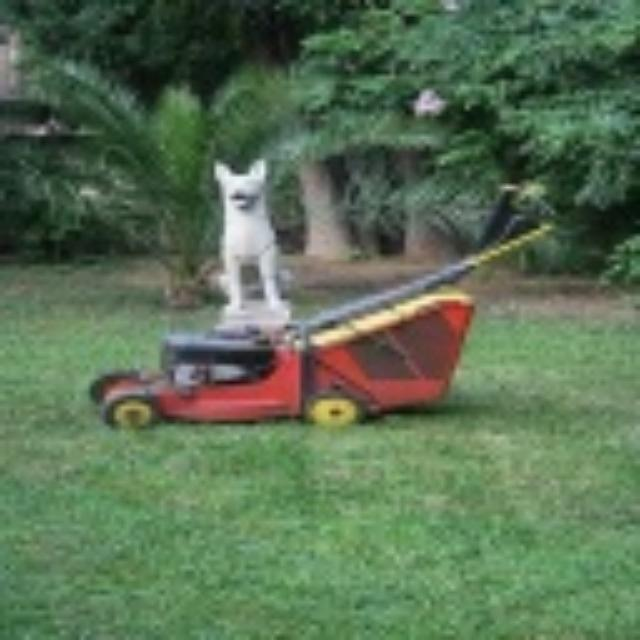Rotary-Mower: (85, 174, 560, 430)
